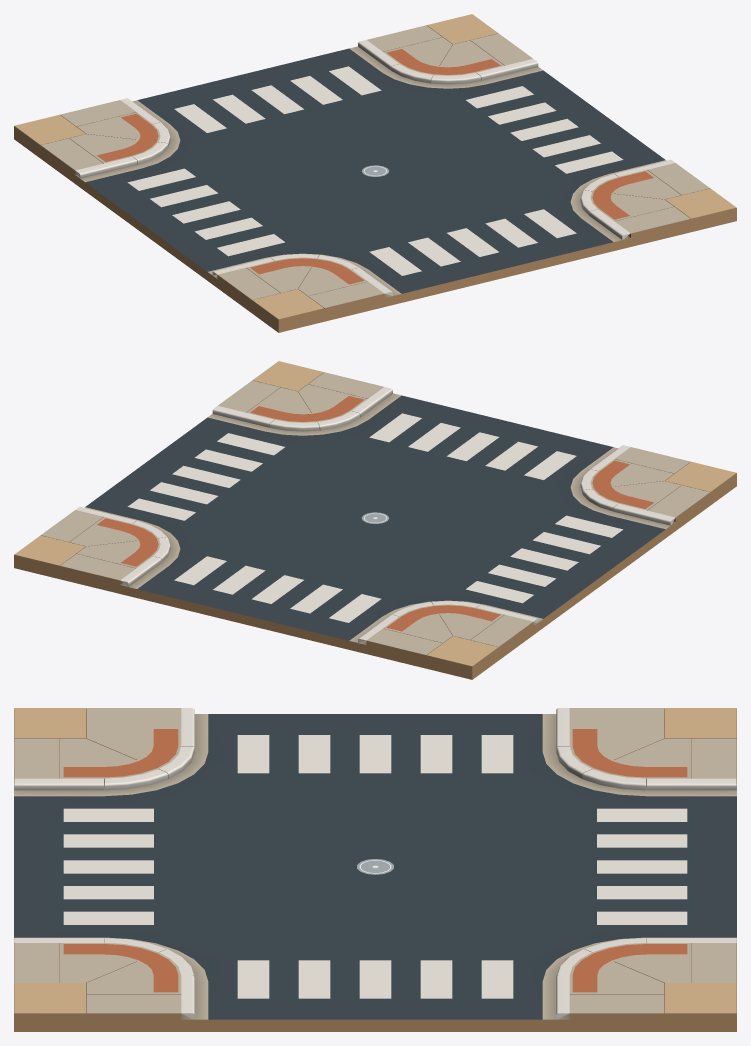
The model's file is road_cross.fbx.
The picture shows the model from 3 angles, top to bottom: view 1: azimuth 30°, elevation 25°; view 2: azimuth 150°, elevation 25°; view 3: azimuth 270°, elevation 25°; orthographic projection. The views are drawn at different scales.
Visible parts, largest first — view 1: road_cross; view 2: road_cross; view 3: road_cross.
Part boxes in pixels (x1=…): road_cross: x1=14, y1=14, x2=736, y2=332; road_cross: x1=14, y1=361, x2=736, y2=679; road_cross: x1=14, y1=708, x2=736, y2=1031.
Bounding box in the file's own units: 16 × 0.45 × 16.
